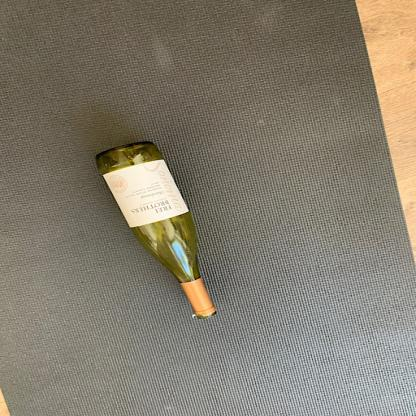trash: (97, 141, 218, 326)
